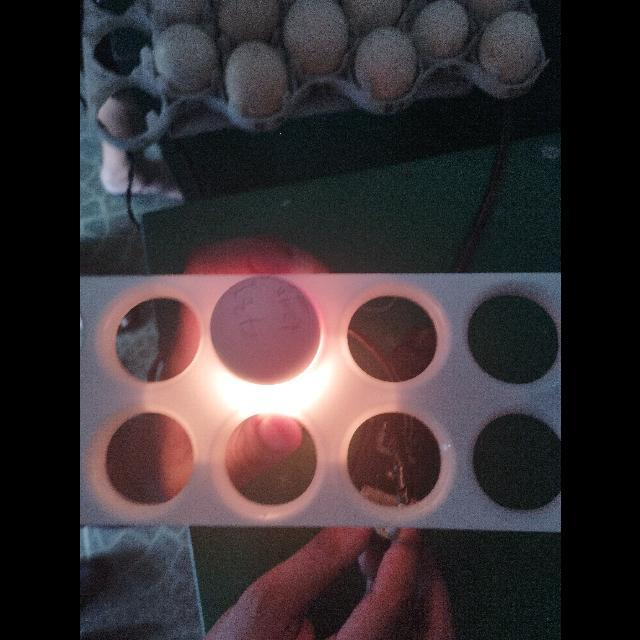Fertile: (210, 274, 320, 386)
